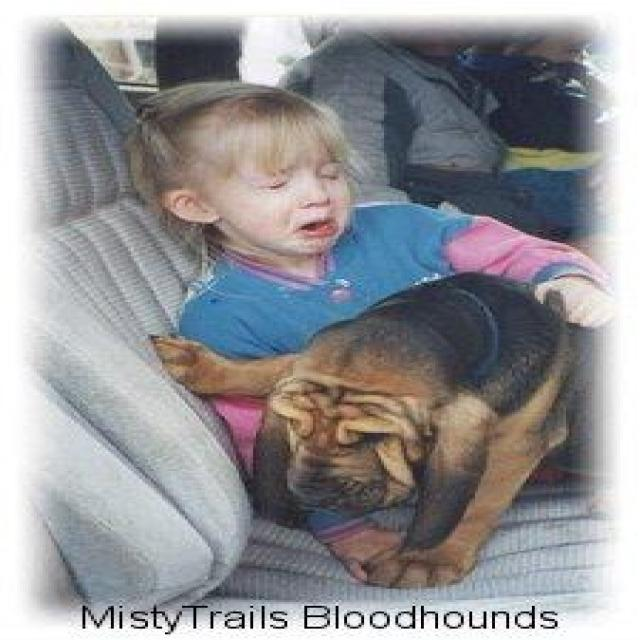bloodhound: (145, 268, 569, 585)
